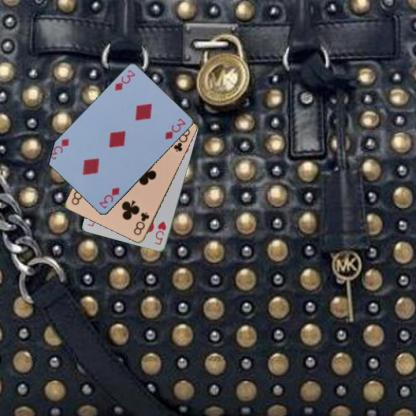3d: (96, 185, 121, 210), (112, 67, 137, 92)
5h: (152, 219, 168, 246)
8c: (131, 210, 150, 236)
